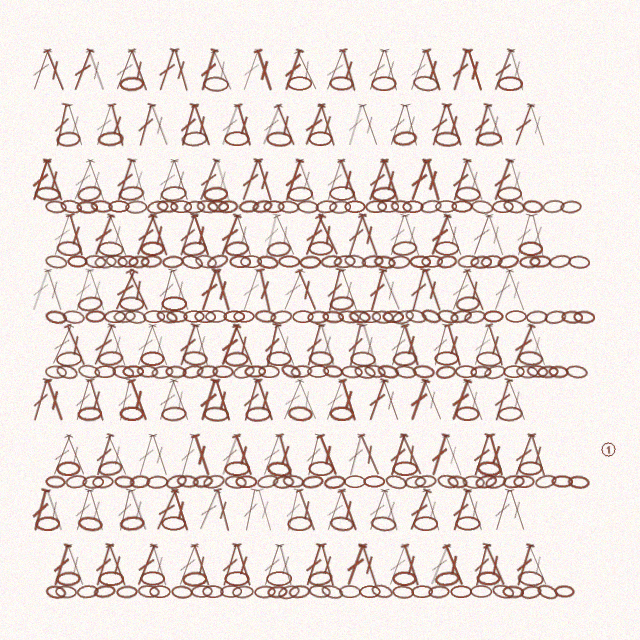chain: (412, 74, 440, 93), (76, 184, 103, 203), (97, 459, 124, 478), (307, 569, 334, 588), (535, 582, 560, 602), (181, 240, 208, 258), (370, 515, 397, 533), (205, 252, 230, 271), (164, 472, 189, 491), (266, 240, 292, 258), (77, 295, 103, 313), (266, 460, 292, 478), (77, 515, 103, 533), (329, 515, 355, 533), (434, 570, 460, 588), (118, 185, 145, 202), (160, 185, 187, 202), (391, 240, 418, 257), (97, 350, 124, 367), (517, 350, 544, 367), (517, 570, 544, 587), (419, 307, 443, 326), (279, 362, 303, 381), (392, 130, 418, 147), (56, 240, 82, 257), (224, 240, 250, 257), (329, 295, 355, 312), (455, 295, 481, 312), (182, 350, 208, 367), (308, 350, 334, 367), (392, 350, 418, 367), (287, 405, 313, 422), (476, 460, 502, 477), (119, 515, 145, 532), (97, 131, 124, 147), (181, 131, 208, 147), (34, 186, 61, 202), (97, 241, 124, 257), (180, 253, 204, 271), (155, 308, 179, 326), (391, 308, 415, 326), (55, 363, 79, 381), (483, 363, 507, 381), (384, 473, 408, 491), (484, 473, 508, 491), (277, 583, 301, 601), (320, 583, 344, 601), (203, 76, 229, 92), (266, 131, 292, 147), (434, 131, 460, 147), (476, 131, 502, 147), (287, 186, 313, 202), (455, 186, 481, 202), (56, 351, 82, 367), (350, 351, 376, 367), (476, 351, 502, 367), (161, 406, 187, 422), (203, 406, 229, 422), (245, 406, 271, 422), (497, 406, 523, 422), (59, 198, 83, 215), (419, 198, 443, 215), (502, 198, 526, 215), (194, 253, 218, 270), (343, 253, 367, 270), (496, 253, 520, 270), (548, 253, 572, 270), (404, 308, 428, 325), (436, 308, 460, 325), (449, 308, 473, 325), (77, 363, 101, 380), (181, 363, 205, 380), (232, 363, 256, 380), (363, 363, 387, 380), (376, 363, 400, 380), (202, 473, 226, 490), (256, 473, 280, 490), (436, 473, 460, 490), (474, 473, 498, 490), (534, 473, 558, 490), (370, 583, 394, 600), (491, 583, 515, 600), (119, 76, 144, 92), (56, 131, 81, 147), (203, 186, 228, 202), (371, 186, 396, 202), (497, 186, 522, 202), (119, 296, 144, 312), (224, 351, 249, 367), (77, 406, 102, 422), (56, 571, 81, 587), (182, 571, 207, 587), (251, 198, 274, 215), (371, 76, 397, 91), (497, 76, 523, 91), (224, 131, 250, 146), (329, 186, 355, 201), (161, 296, 187, 311), (266, 351, 292, 366), (224, 461, 250, 476), (308, 461, 334, 476), (392, 461, 418, 476), (455, 516, 481, 531), (98, 571, 124, 586), (224, 571, 250, 586), (266, 571, 292, 586), (470, 199, 494, 215), (44, 254, 68, 270), (44, 309, 68, 325), (269, 309, 293, 325), (463, 309, 487, 325), (111, 364, 135, 380), (353, 364, 377, 380), (519, 584, 543, 600), (287, 76, 312, 91), (329, 76, 354, 91), (308, 131, 333, 146), (140, 241, 165, 256), (308, 241, 333, 256), (434, 241, 459, 256), (518, 241, 543, 256), (140, 351, 165, 366), (434, 351, 459, 366), (119, 406, 144, 421), (329, 406, 354, 421), (455, 406, 480, 421), (56, 461, 81, 476), (518, 461, 543, 476), (35, 516, 60, 531), (161, 516, 186, 531), (287, 516, 312, 531), (413, 516, 438, 531), (140, 571, 165, 586), (392, 571, 417, 586), (476, 571, 501, 586), (146, 199, 169, 215), (256, 254, 279, 270), (373, 254, 396, 270), (62, 309, 85, 325), (124, 309, 147, 325), (337, 309, 360, 325), (544, 309, 567, 325), (151, 364, 174, 380), (394, 364, 417, 380), (565, 364, 588, 380), (301, 474, 324, 490), (323, 474, 346, 490), (446, 474, 469, 490), (435, 364, 457, 380), (45, 584, 67, 600), (90, 199, 113, 214), (156, 199, 179, 214), (196, 199, 219, 214), (315, 199, 338, 214), (390, 199, 413, 214), (542, 199, 565, 214), (84, 254, 107, 269), (105, 254, 128, 269), (140, 254, 163, 269), (320, 254, 343, 269), (333, 254, 356, 269), (361, 254, 384, 269), (457, 254, 480, 269), (480, 254, 503, 269), (113, 309, 136, 324), (254, 309, 277, 324), (348, 309, 371, 324), (136, 364, 159, 379), (196, 364, 219, 379), (290, 364, 313, 379), (412, 364, 435, 379), (526, 364, 549, 379), (65, 474, 88, 489), (176, 474, 199, 489), (282, 474, 305, 489), (414, 474, 437, 489), (502, 474, 525, 489), (76, 584, 99, 599), (93, 584, 116, 599), (137, 584, 160, 599), (288, 584, 311, 599), (308, 584, 331, 599), (217, 199, 239, 214), (238, 199, 260, 214), (522, 199, 544, 214), (436, 254, 458, 269), (322, 364, 344, 379), (129, 474, 151, 489), (192, 474, 214, 489), (183, 200, 206, 214), (277, 200, 300, 214), (94, 255, 117, 269), (371, 310, 394, 324), (224, 475, 247, 489), (272, 475, 295, 489), (404, 475, 427, 489), (462, 475, 485, 489), (567, 475, 590, 489), (45, 200, 67, 214), (76, 200, 98, 214), (125, 200, 147, 214), (297, 200, 319, 214), (329, 200, 351, 214), (560, 200, 582, 214), (128, 255, 150, 269), (162, 255, 184, 269), (299, 255, 321, 269), (388, 255, 410, 269), (470, 255, 492, 269), (519, 255, 541, 269), (568, 255, 590, 269), (307, 310, 329, 324), (322, 310, 344, 324), (526, 310, 548, 324), (561, 310, 583, 324), (573, 310, 595, 324), (45, 365, 67, 379), (165, 365, 187, 379), (341, 365, 363, 379), (470, 365, 492, 379), (516, 365, 538, 379), (537, 365, 559, 379), (82, 475, 104, 489), (92, 475, 114, 489), (146, 475, 168, 489), (55, 585, 77, 599), (116, 585, 138, 599), (171, 585, 193, 599), (232, 585, 254, 599), (254, 585, 276, 599), (392, 585, 414, 599), (428, 585, 450, 599), (502, 585, 524, 599), (548, 365, 569, 379), (45, 475, 66, 489), (114, 475, 135, 489), (267, 585, 288, 599), (108, 200, 130, 213), (170, 200, 192, 213), (207, 200, 229, 213), (263, 200, 285, 213), (344, 200, 366, 213), (365, 200, 387, 213), (377, 200, 399, 213), (402, 200, 424, 213), (435, 200, 457, 213), (451, 200, 473, 213), (492, 200, 514, 213), (117, 255, 139, 268), (229, 255, 251, 268), (240, 255, 262, 268), (278, 255, 300, 268), (409, 255, 431, 268), (421, 255, 443, 268), (529, 255, 551, 268), (104, 310, 126, 323), (143, 310, 165, 323), (166, 310, 188, 323), (183, 310, 205, 323), (194, 310, 216, 323), (205, 310, 227, 323), (223, 310, 245, 323), (233, 310, 255, 323), (292, 310, 314, 323), (359, 310, 381, 323), (382, 310, 404, 323), (505, 310, 527, 323), (94, 365, 116, 378), (122, 365, 144, 378), (212, 365, 234, 378), (244, 365, 266, 378), (258, 365, 280, 378), (307, 365, 329, 378), (455, 365, 477, 378), (503, 365, 525, 378), (235, 475, 257, 488), (344, 475, 366, 488), (363, 475, 385, 488), (513, 475, 535, 488), (551, 475, 573, 488), (149, 585, 171, 598), (191, 585, 213, 598), (202, 585, 224, 598), (220, 585, 242, 598), (339, 585, 361, 598), (359, 585, 381, 598), (411, 585, 433, 598), (450, 585, 472, 598), (470, 585, 492, 598), (67, 255, 88, 268), (85, 310, 106, 323), (483, 310, 504, 323), (554, 585, 575, 598)
double: (291, 47, 323, 93), (312, 212, 344, 258), (109, 267, 141, 313), (207, 47, 238, 93), (270, 212, 301, 258), (123, 267, 154, 313), (88, 322, 119, 368), (508, 322, 539, 368), (277, 377, 308, 423), (102, 432, 133, 478), (151, 487, 182, 533), (193, 487, 224, 533), (480, 542, 511, 588), (46, 322, 77, 367), (40, 47, 70, 93), (320, 47, 350, 93), (271, 102, 301, 148), (299, 102, 329, 148), (68, 157, 98, 203), (103, 212, 133, 258), (299, 212, 329, 258), (425, 212, 455, 258), (278, 267, 308, 313), (292, 267, 322, 313), (376, 267, 406, 313), (460, 267, 490, 313), (61, 322, 91, 368), (229, 322, 259, 368), (271, 322, 301, 368), (502, 377, 532, 423), (313, 432, 343, 478), (404, 487, 434, 533), (131, 542, 161, 588), (439, 542, 469, 588), (523, 542, 553, 588), (292, 377, 322, 422), (355, 432, 385, 477), (397, 432, 427, 477), (68, 47, 97, 93), (110, 47, 139, 93), (404, 47, 433, 93), (145, 102, 174, 148), (257, 102, 286, 148), (481, 102, 510, 148), (509, 102, 538, 148), (40, 157, 69, 203), (82, 157, 111, 203), (194, 157, 223, 203), (236, 157, 265, 203), (292, 157, 321, 203), (334, 157, 363, 203), (460, 157, 489, 203), (488, 157, 517, 203), (89, 212, 118, 258), (131, 212, 160, 258), (145, 212, 174, 258), (215, 212, 244, 258), (355, 212, 384, 258), (467, 212, 496, 258), (166, 267, 195, 313), (446, 267, 475, 313), (488, 267, 517, 313), (502, 267, 531, 313), (131, 322, 160, 368), (145, 322, 174, 368), (215, 322, 244, 368), (523, 322, 552, 368), (124, 377, 153, 423), (166, 377, 195, 423), (320, 377, 349, 423), (418, 377, 447, 423), (446, 377, 475, 423), (460, 377, 489, 423), (47, 432, 76, 478), (61, 432, 90, 478), (229, 432, 258, 478), (257, 432, 286, 478), (439, 432, 468, 478), (509, 432, 538, 478), (124, 487, 153, 533), (334, 487, 363, 533), (61, 542, 90, 588), (103, 542, 132, 588), (173, 542, 202, 588), (341, 542, 370, 588), (383, 542, 412, 588), (425, 542, 454, 588), (27, 47, 55, 93), (125, 47, 153, 93), (153, 47, 181, 93), (237, 47, 265, 93), (279, 47, 307, 93), (363, 47, 391, 93), (419, 47, 447, 93), (489, 47, 517, 93), (90, 102, 118, 148), (188, 102, 216, 148), (216, 102, 244, 148), (440, 102, 468, 148), (111, 157, 139, 203), (153, 157, 181, 203), (167, 157, 195, 203), (279, 157, 307, 203), (363, 157, 391, 203), (377, 157, 405, 203), (405, 157, 433, 203), (48, 212, 76, 258), (230, 212, 258, 258), (398, 212, 426, 258), (440, 212, 468, 258), (482, 212, 510, 258), (83, 267, 111, 313), (195, 267, 223, 313), (237, 267, 265, 313), (335, 267, 363, 313), (419, 267, 447, 313), (104, 322, 132, 368), (174, 322, 202, 368), (468, 322, 496, 368), (41, 377, 69, 423), (153, 377, 181, 423), (251, 377, 279, 423), (363, 377, 391, 423), (377, 377, 405, 423), (405, 377, 433, 423), (188, 432, 216, 478), (216, 432, 244, 478), (293, 487, 321, 533), (321, 487, 349, 533), (363, 487, 391, 533), (461, 487, 489, 533), (258, 542, 286, 588), (83, 47, 110, 93), (195, 47, 222, 93), (251, 47, 278, 93), (447, 47, 474, 93), (62, 102, 89, 148), (314, 102, 341, 148), (356, 102, 383, 148), (384, 102, 411, 148), (426, 102, 453, 148), (524, 102, 551, 148), (27, 157, 54, 203), (251, 157, 278, 203), (321, 157, 348, 203), (447, 157, 474, 203), (174, 212, 201, 258), (188, 212, 215, 258), (384, 212, 411, 258), (27, 267, 54, 313), (41, 267, 68, 313), (314, 322, 341, 368), (398, 322, 425, 368), (482, 322, 509, 368), (83, 377, 110, 423), (195, 377, 222, 423), (335, 377, 362, 423), (489, 377, 516, 423), (146, 432, 173, 478), (426, 432, 453, 478), (468, 432, 495, 478), (41, 487, 68, 533), (83, 487, 110, 533), (419, 487, 446, 533), (447, 487, 474, 533), (489, 487, 516, 533), (48, 542, 75, 588), (90, 542, 117, 588), (146, 542, 173, 588), (188, 542, 215, 588), (230, 542, 257, 588), (300, 542, 327, 588), (356, 542, 383, 588), (398, 542, 425, 588), (168, 47, 194, 93), (336, 47, 362, 93), (378, 47, 404, 93), (462, 47, 488, 93), (504, 47, 530, 93), (175, 102, 201, 148), (231, 102, 257, 148), (469, 102, 495, 148), (126, 157, 152, 203), (210, 157, 236, 203), (420, 157, 446, 203), (504, 157, 530, 203), (63, 212, 89, 258), (343, 212, 369, 258), (511, 212, 537, 258), (70, 267, 96, 313), (210, 267, 236, 313), (364, 267, 390, 313), (189, 322, 215, 368), (301, 322, 327, 368), (357, 322, 383, 368), (385, 322, 411, 368), (441, 322, 467, 368), (70, 377, 96, 423), (210, 377, 236, 423), (238, 377, 264, 423), (91, 432, 117, 478), (133, 432, 159, 478), (385, 432, 411, 478), (483, 432, 509, 478), (525, 432, 551, 478), (70, 487, 96, 533), (168, 487, 194, 533), (252, 487, 278, 533), (378, 487, 404, 533), (504, 487, 530, 533), (217, 542, 243, 588), (511, 542, 537, 588), (105, 102, 130, 148), (133, 102, 158, 148), (343, 102, 368, 148), (399, 102, 424, 148), (154, 267, 179, 313), (322, 267, 347, 313), (406, 267, 431, 313), (28, 377, 53, 423), (175, 432, 200, 478), (273, 432, 298, 478), (301, 432, 326, 478), (343, 432, 368, 478), (28, 487, 53, 533), (273, 542, 298, 588), (315, 542, 340, 588), (469, 542, 494, 588), (526, 212, 550, 258), (253, 267, 277, 313), (260, 322, 284, 368), (428, 322, 452, 368), (113, 377, 137, 423), (211, 487, 235, 533), (281, 487, 305, 533), (50, 102, 73, 148), (260, 212, 283, 258), (344, 322, 367, 368), (113, 487, 136, 533), (239, 487, 262, 533)
noise: (599, 440, 618, 459)
